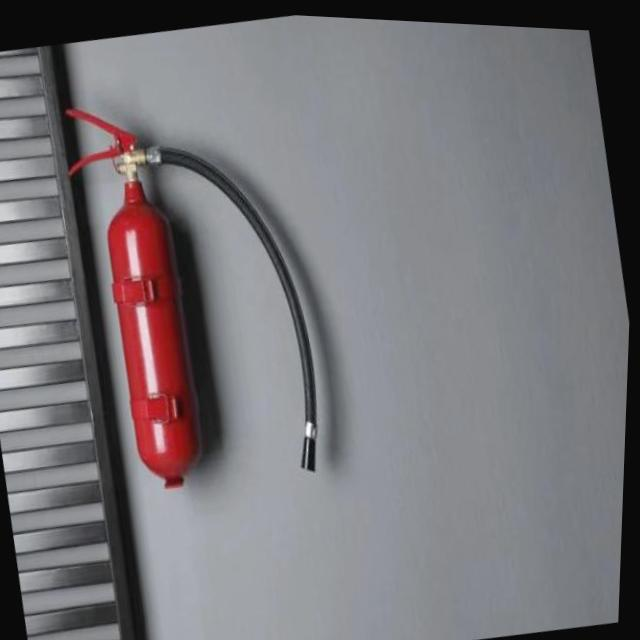FireExtinguisher: (41, 64, 346, 510)
